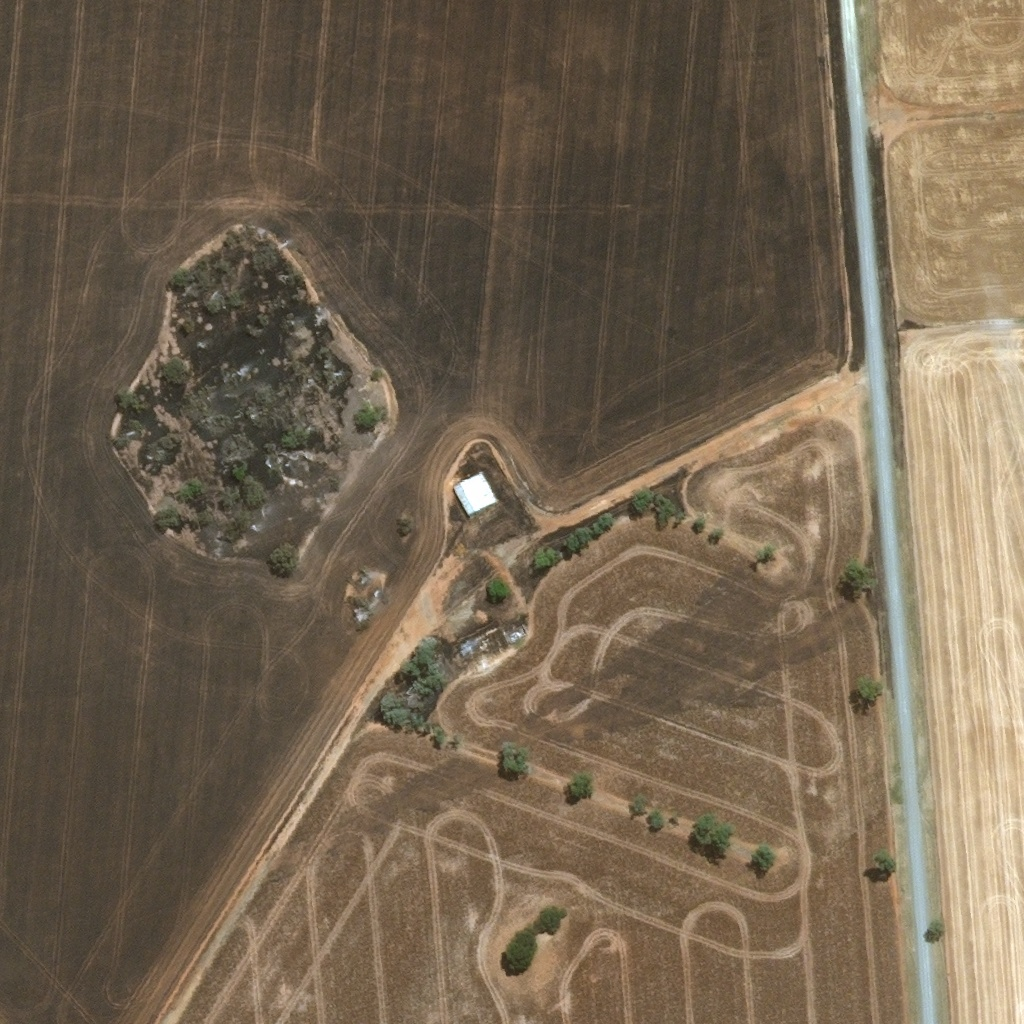0 no-damage: (454, 469, 498, 513)
